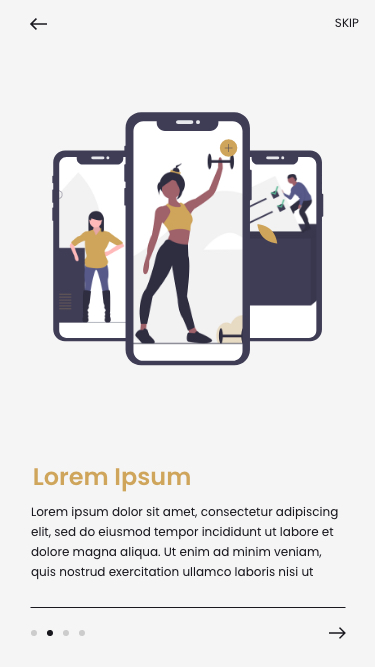Icon: (30, 18, 49, 32), (328, 626, 347, 640)
Image: (52, 113, 325, 366)
PageIndicator: (31, 629, 87, 637)
Text: (31, 506, 339, 580), (34, 468, 191, 492), (334, 18, 360, 29)
